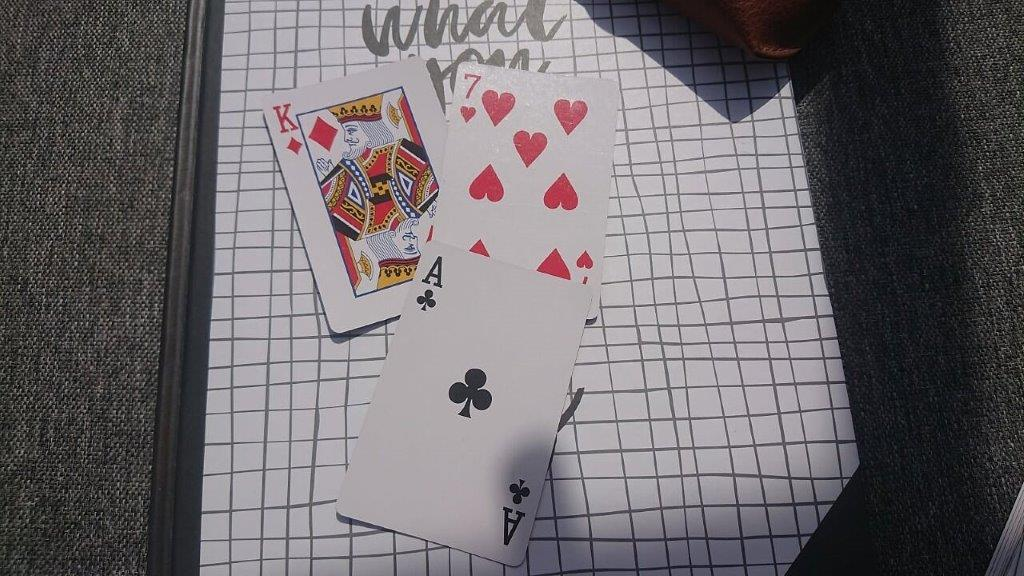7H: (455, 69, 483, 127)
AC: (413, 252, 445, 316)
KD: (268, 98, 307, 159)
